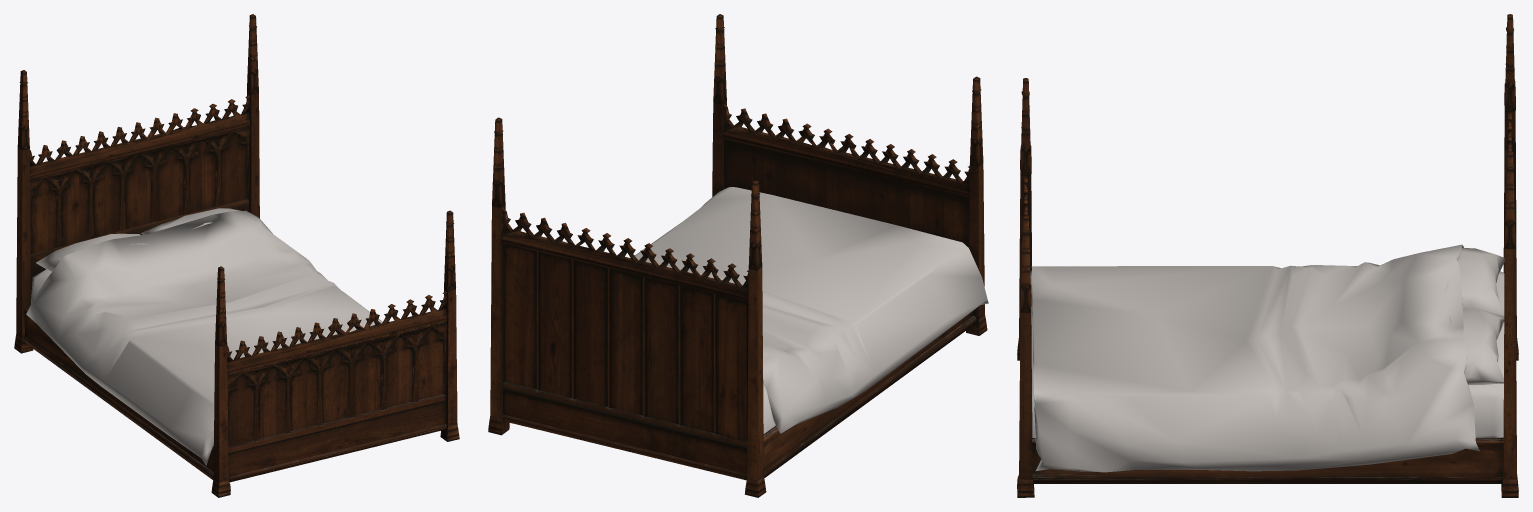
The model's file is GothicBed_01_1k_LOD2.fbx.
3 renders of one model, left to right at view 1: azimuth 30°, elevation 25°; view 2: azimuth 150°, elevation 25°; view 3: azimuth 270°, elevation 25°, orthographic. The views are drawn at different scales.
Parts seen in each view (by area): view 1: GothicBed_01; view 2: GothicBed_01; view 3: GothicBed_01.
Part boxes in pixels (x1,y1,x2,y2): GothicBed_01: (14,14,459,497); GothicBed_01: (488,14,988,497); GothicBed_01: (1017,14,1518,497).
Bounding box in the file's own units: 149 × 154 × 204.
